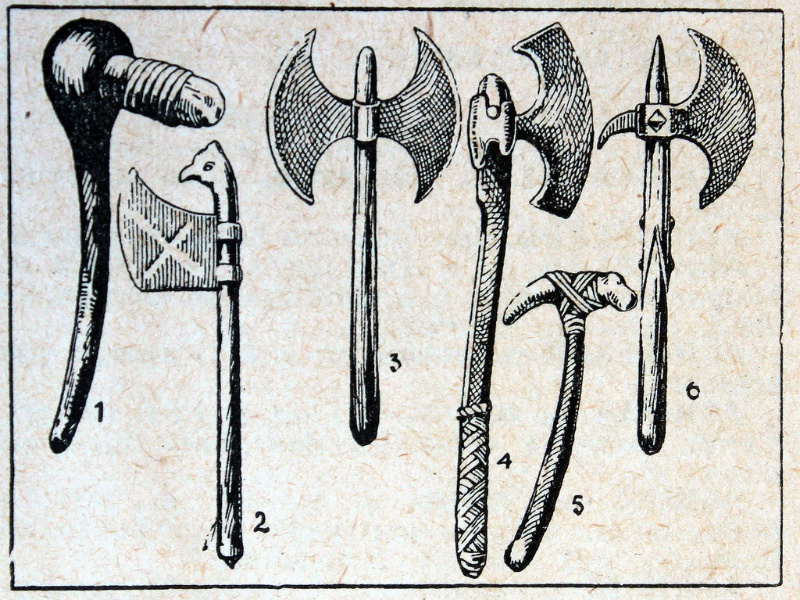axe: (259, 21, 467, 226), (594, 16, 768, 232), (463, 13, 597, 280), (114, 135, 252, 363)
